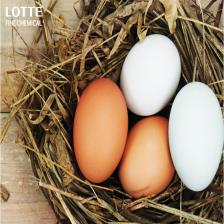egg: (168, 80, 224, 192), (73, 77, 129, 184), (119, 33, 182, 116), (118, 115, 178, 200)
